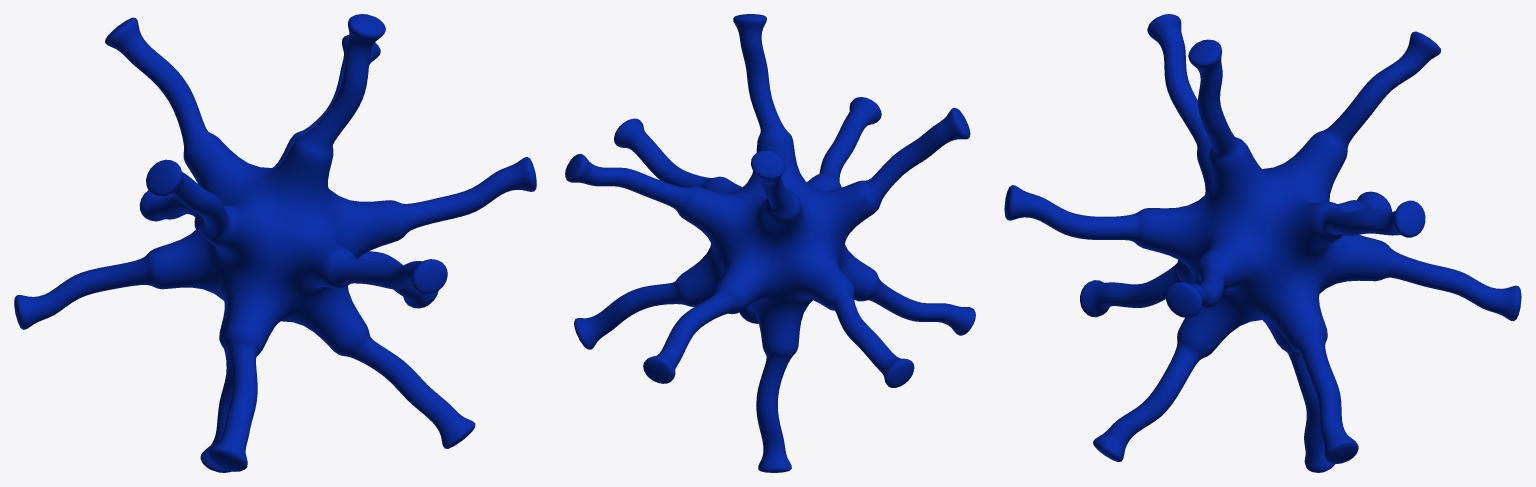
File: nerve.fbx
3 renders of one model, left to right at view 1: azimuth 30°, elevation 25°; view 2: azimuth 150°, elevation 25°; view 3: azimuth 270°, elevation 25°, orthographic. The views are drawn at different scales.
Visible parts, largest first — view 1: pSolid3; view 2: pSolid3; view 3: pSolid3.
Boxes of the visible parts, x1=… form: pSolid3: x1=14, y1=14, x2=536, y2=472; pSolid3: x1=565, y1=14, x2=975, y2=472; pSolid3: x1=1004, y1=14, x2=1521, y2=472.
Size of the model in its own units: 3.71 by 3.89 by 3.92.
